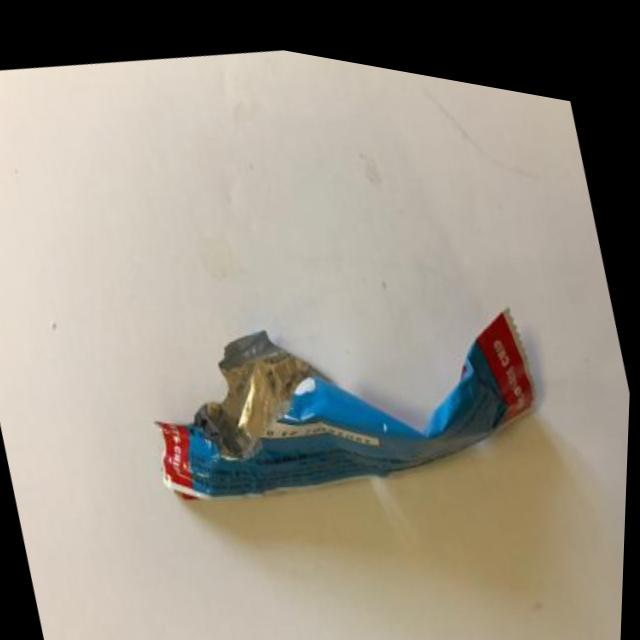trash: (87, 169, 603, 614)
